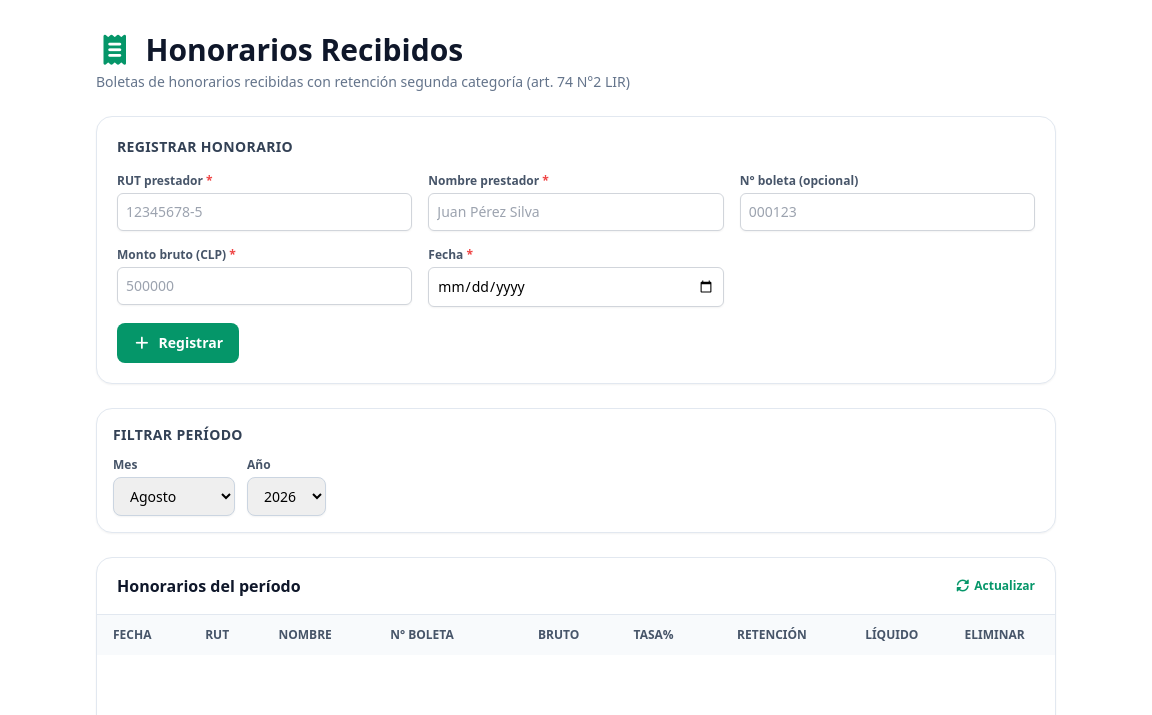
Test: HonorariosRecibidos (vista) › cálculo de retención en vivo al ingresar monto y fecha
This screenshot has width=1152, height=715.
Step 1. Type "100000" into the number field with placeholder "500000" → (265, 286), box [117,267,412,305]
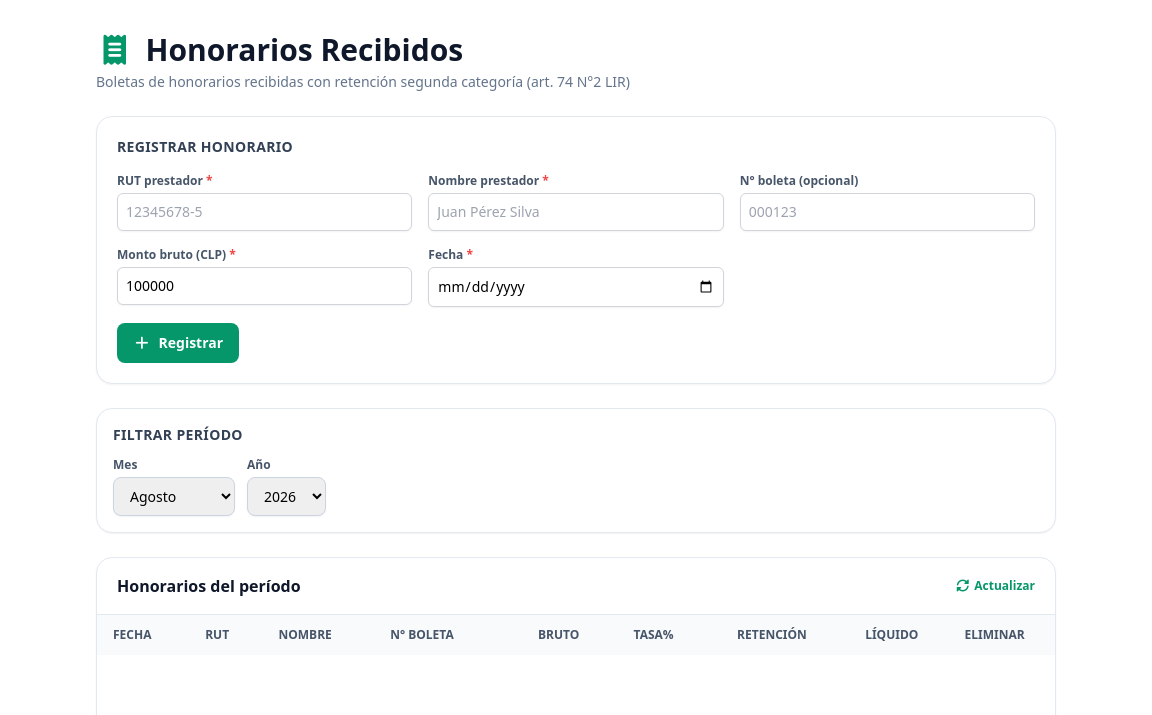
Step 2. Type "2024-01-15" into the date field labelled "Fecha *" → (576, 287), box [428,267,724,307]
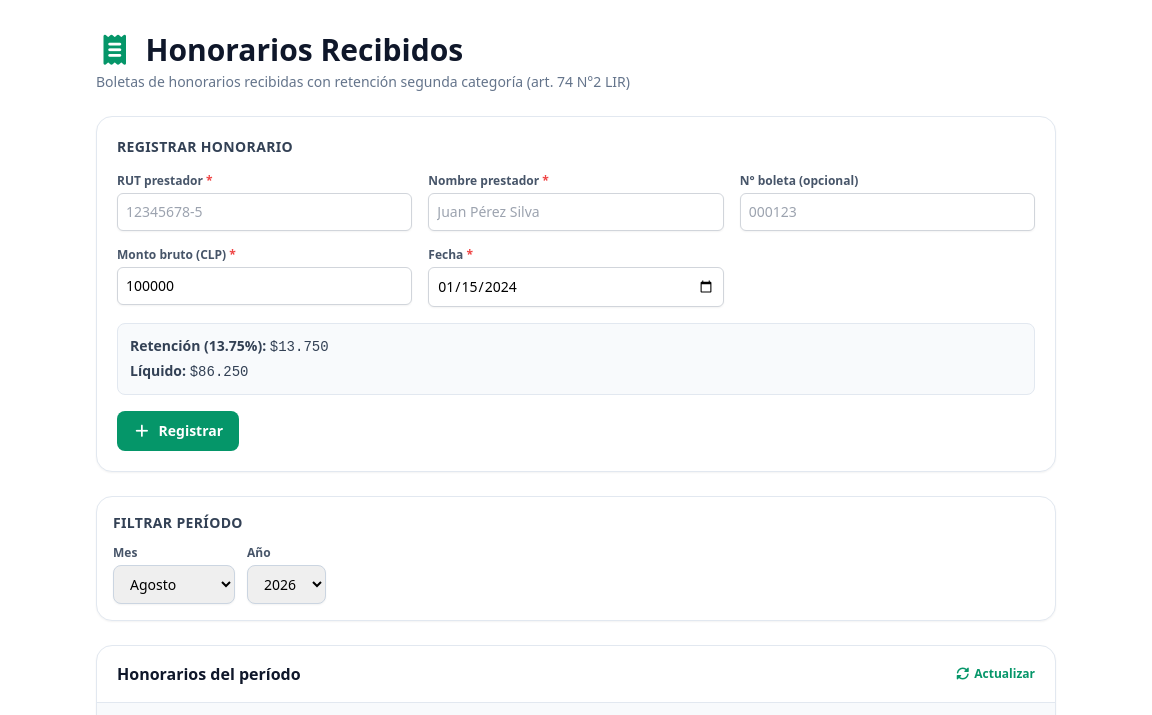
Expected: the text "Retención (13.75%):" is shown, [130,336,266,355]
